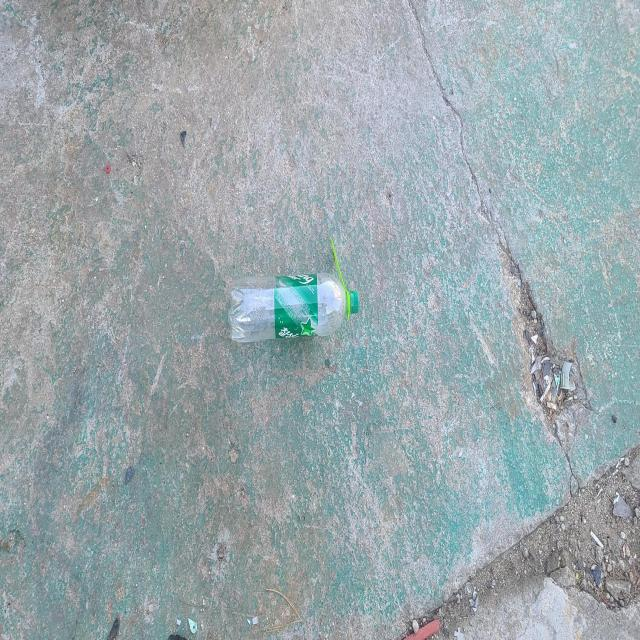plastic: (228, 271, 359, 342)
